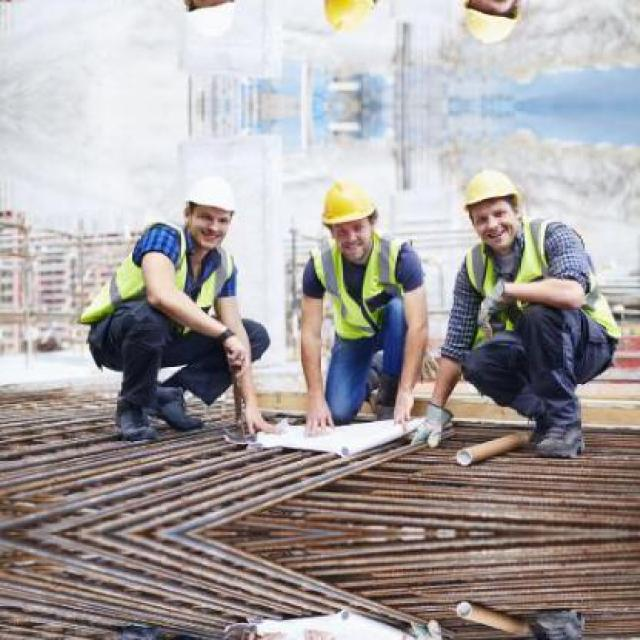helmet: (458, 161, 530, 254), (312, 176, 380, 260), (178, 173, 240, 250), (457, 0, 531, 52), (178, 0, 242, 40), (313, 0, 382, 37)
